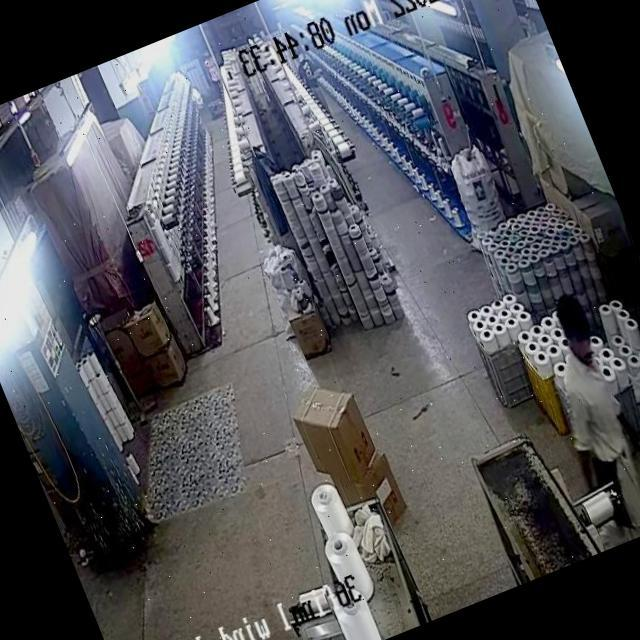person: (523, 286, 640, 493), (295, 55, 336, 116), (198, 48, 226, 94)
